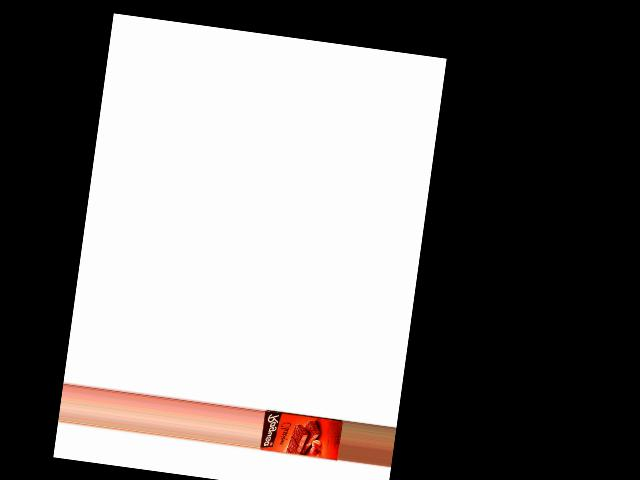chocolate: (260, 407, 343, 465)
